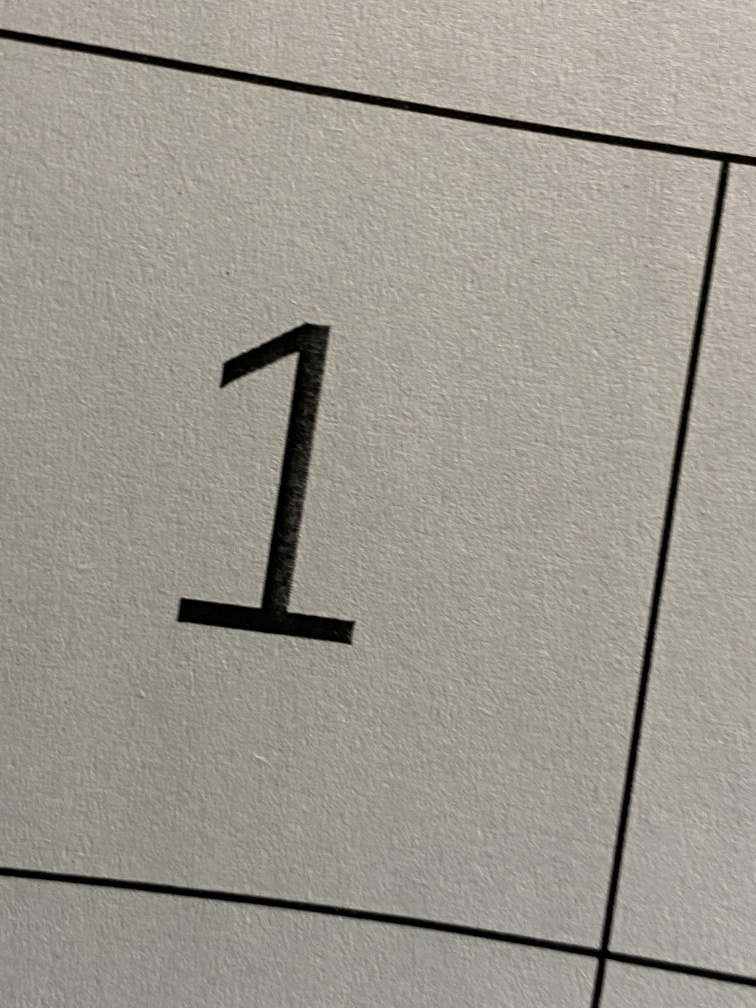one: (153, 270, 402, 713)
